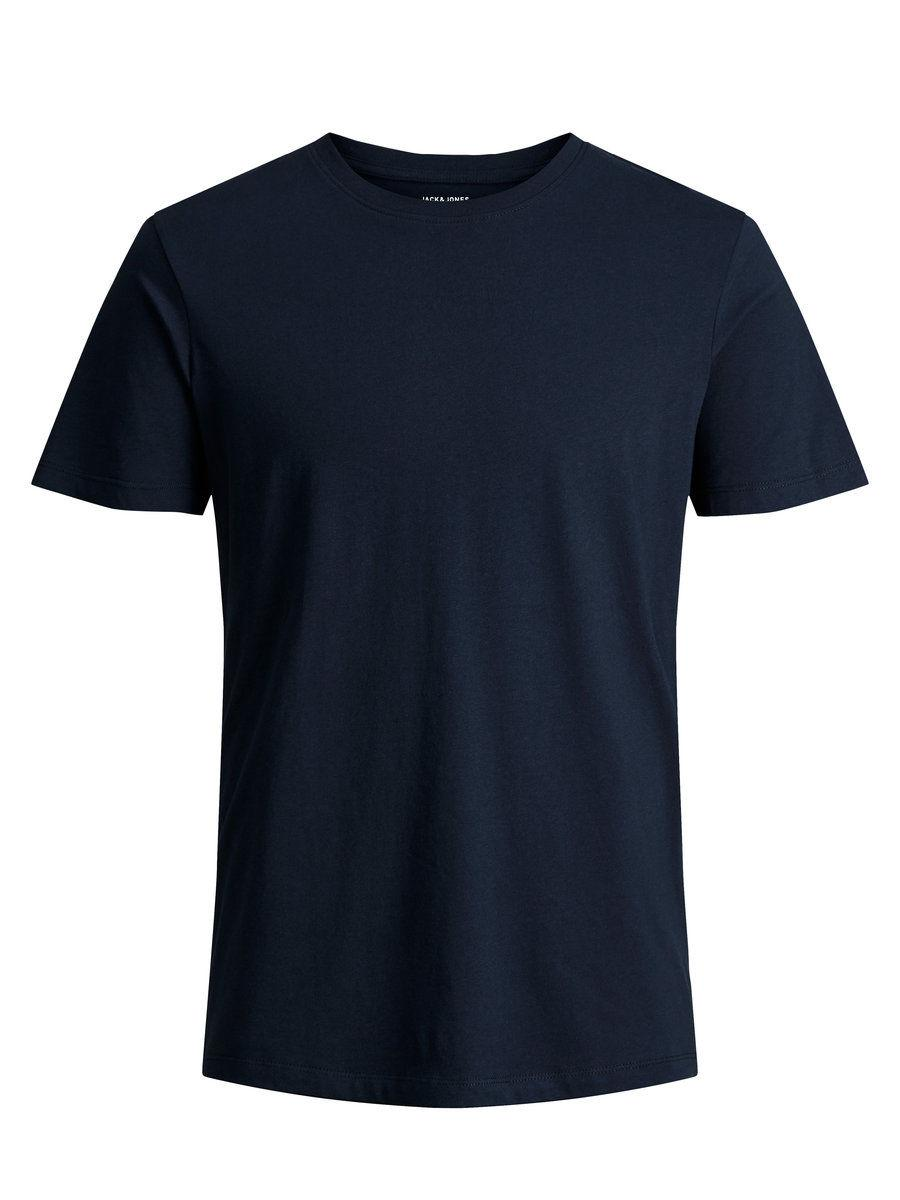teeshirt: (12, 122, 894, 1133)
